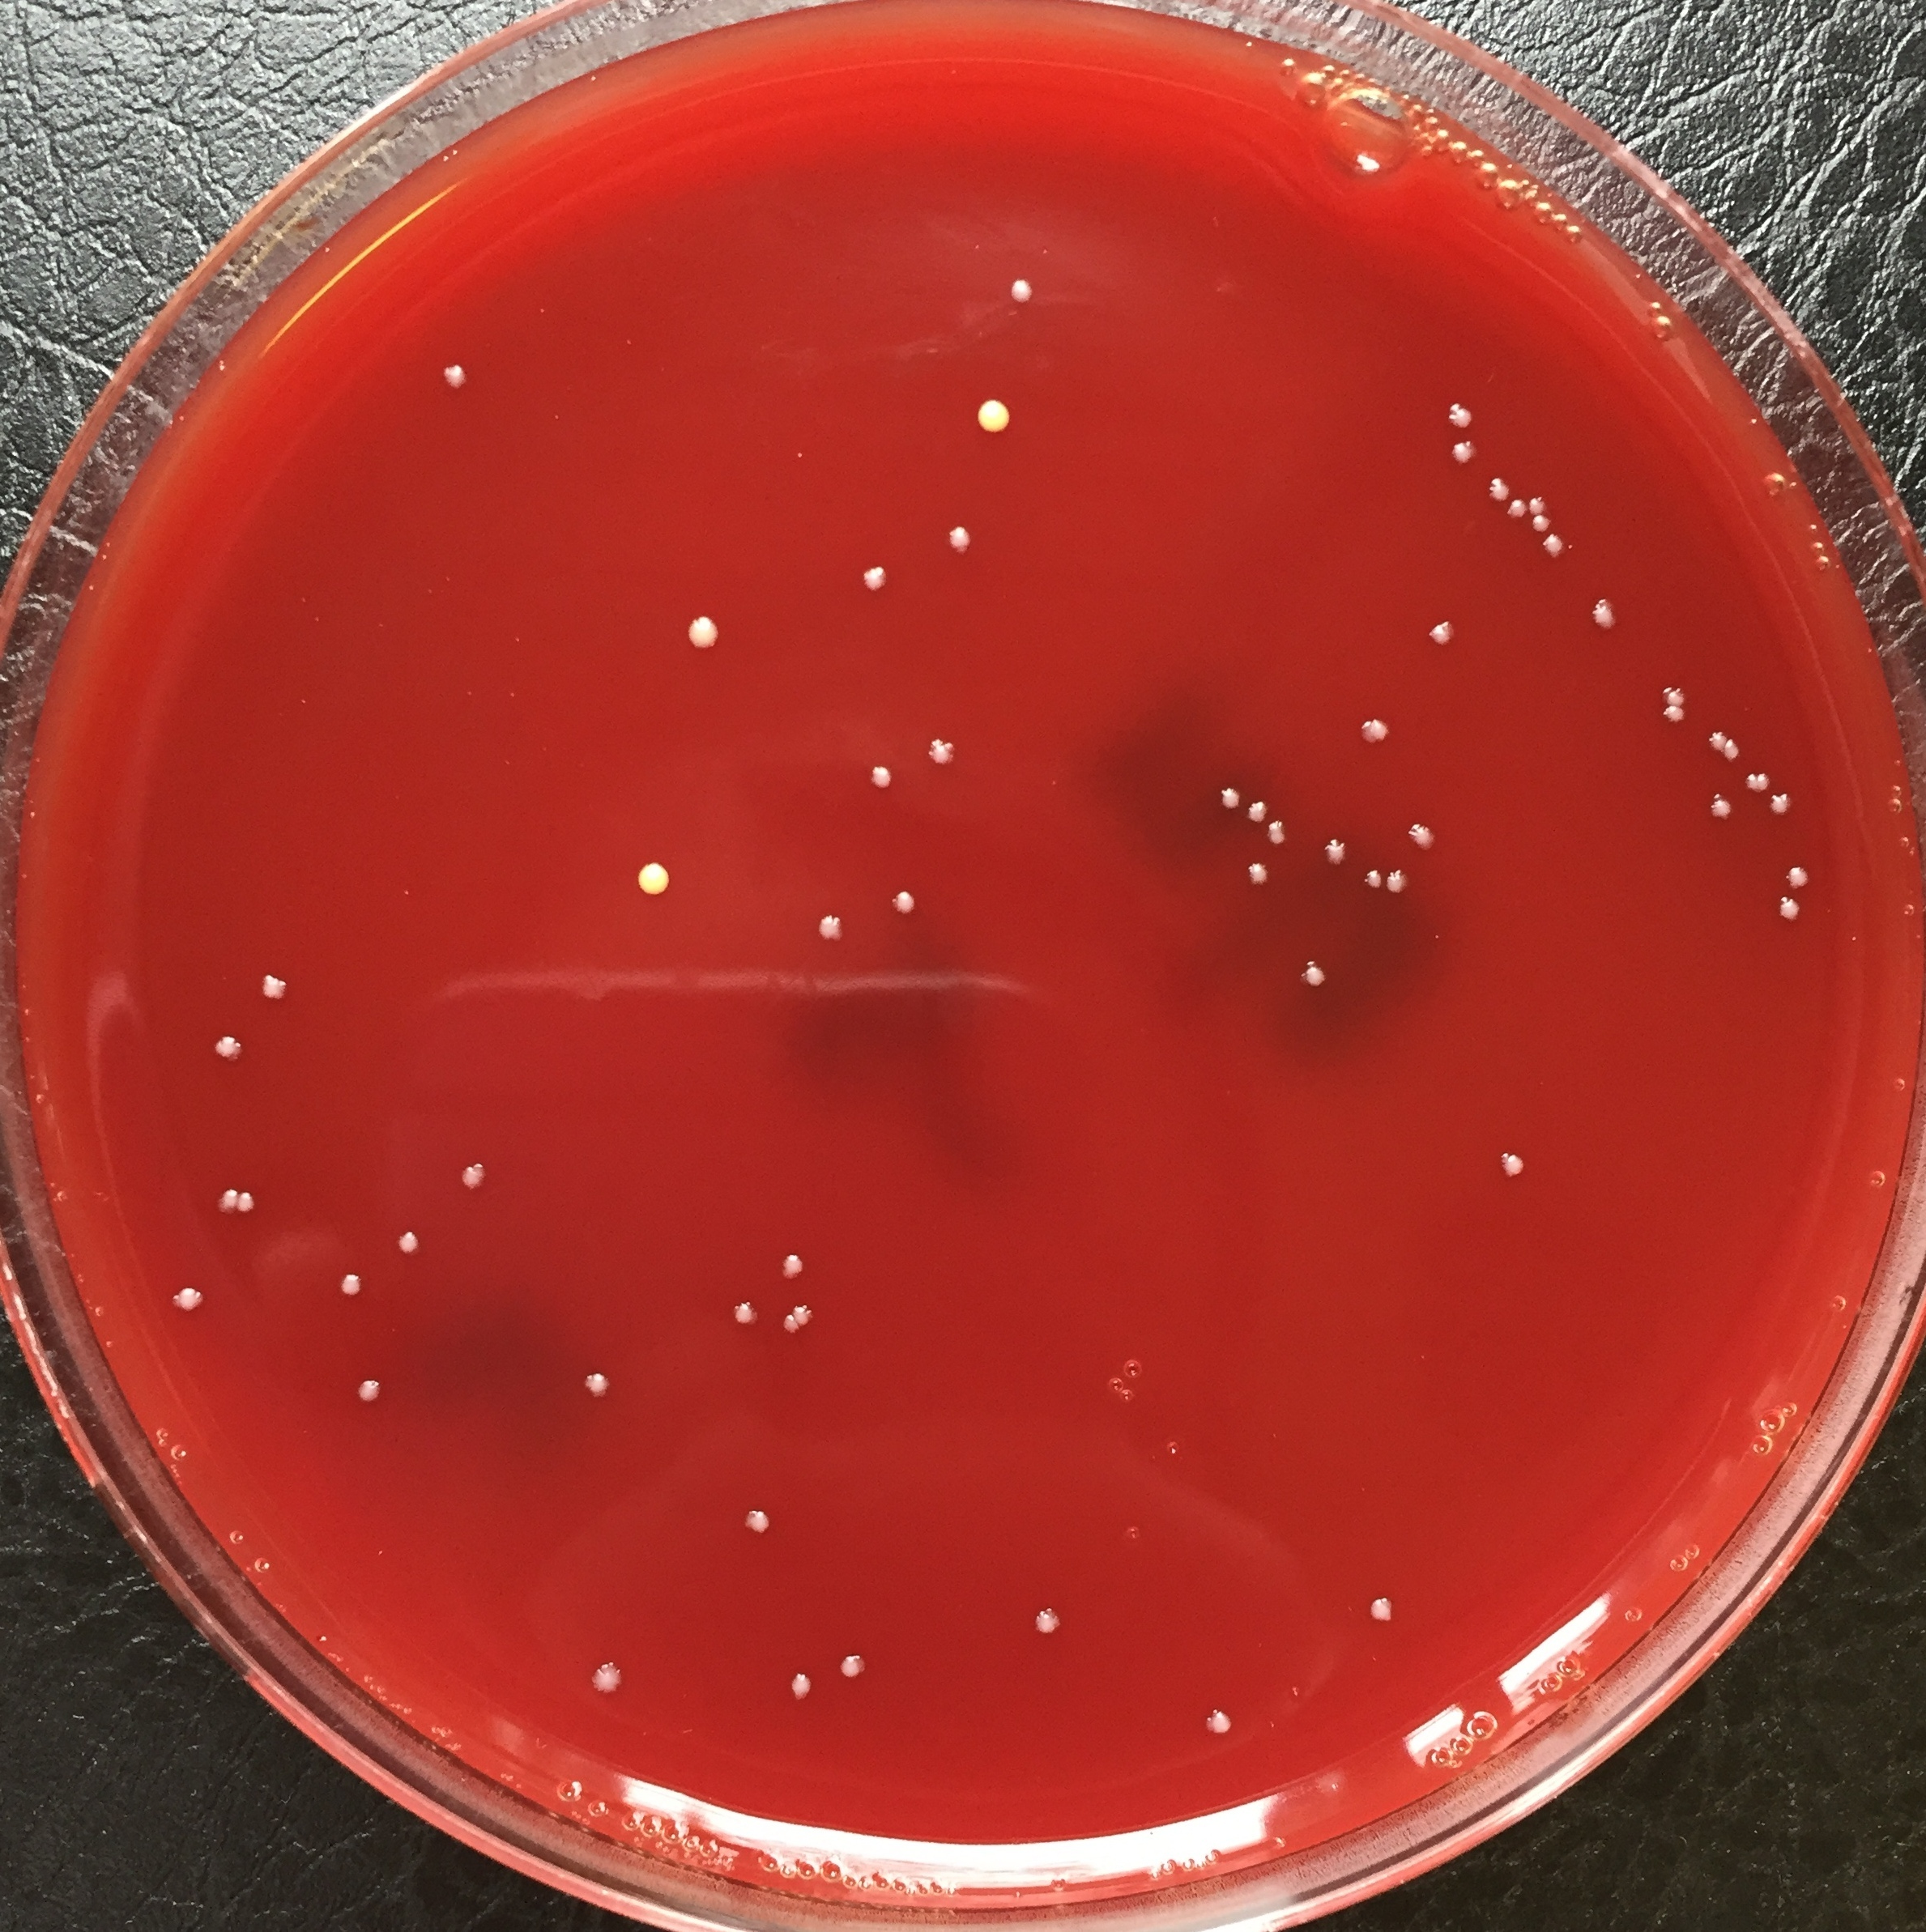sp23: (616, 853, 676, 906), (917, 726, 972, 781), (670, 610, 730, 659), (1416, 610, 1469, 665), (935, 508, 977, 575), (965, 393, 1023, 439), (795, 910, 845, 959), (859, 756, 905, 809), (1289, 954, 1335, 1007), (1183, 1699, 1238, 1743), (249, 964, 291, 1015), (1356, 1585, 1402, 1631), (168, 1276, 213, 1322), (455, 1146, 496, 1197), (1586, 591, 1630, 636), (326, 1266, 370, 1312), (1002, 268, 1042, 317), (1240, 858, 1280, 908), (884, 883, 922, 934), (1355, 710, 1399, 754), (838, 1639, 873, 1694), (1400, 811, 1439, 860), (208, 1028, 245, 1079), (852, 562, 894, 606), (388, 1218, 430, 1262), (436, 353, 467, 407), (1026, 1604, 1071, 1643), (1441, 391, 1480, 435), (735, 1504, 774, 1546), (575, 1364, 614, 1407), (1769, 895, 1813, 933), (723, 1296, 760, 1340), (1203, 779, 1242, 820), (353, 1370, 392, 1410), (1494, 1148, 1529, 1192), (785, 1662, 818, 1708), (769, 1248, 810, 1285), (1778, 853, 1813, 894), (594, 1659, 626, 1701), (1651, 680, 1695, 707), (1767, 790, 1797, 825), (1743, 762, 1776, 791), (1358, 862, 1386, 897), (1319, 834, 1347, 869), (1383, 867, 1413, 899), (1446, 434, 1474, 465), (213, 1179, 238, 1215), (1543, 534, 1568, 569), (1709, 790, 1730, 830), (1485, 472, 1515, 501), (1245, 797, 1272, 827), (1720, 733, 1746, 762), (1265, 816, 1288, 848), (236, 1185, 256, 1220), (1658, 707, 1690, 728), (794, 1306, 822, 1327), (1503, 497, 1527, 520), (1704, 726, 1723, 751), (1527, 515, 1552, 534), (781, 1312, 797, 1341), (1527, 494, 1549, 515)
